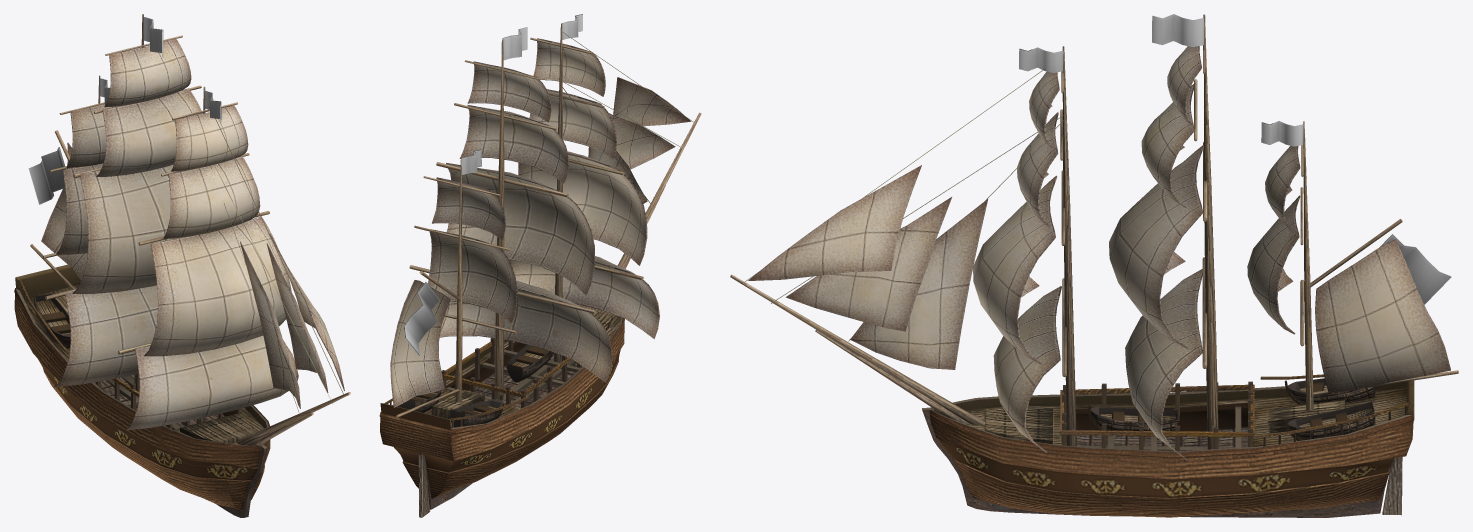
The model's file is ship_lvl_5.fbx.
3 renders of one model, left to right at view 1: azimuth 30°, elevation 25°; view 2: azimuth 150°, elevation 25°; view 3: azimuth 270°, elevation 25°, orthographic. The views are drawn at different scales.
Parts seen in each view (by area): view 1: ship_lvl_5; view 2: ship_lvl_5; view 3: ship_lvl_5.
Part boxes in pixels (x1,y1,x2,y2): ship_lvl_5: [14, 14, 350, 517]; ship_lvl_5: [379, 14, 701, 517]; ship_lvl_5: [730, 14, 1458, 517].
Bounding box in the file's own units: 75.14 × 162 × 213.
